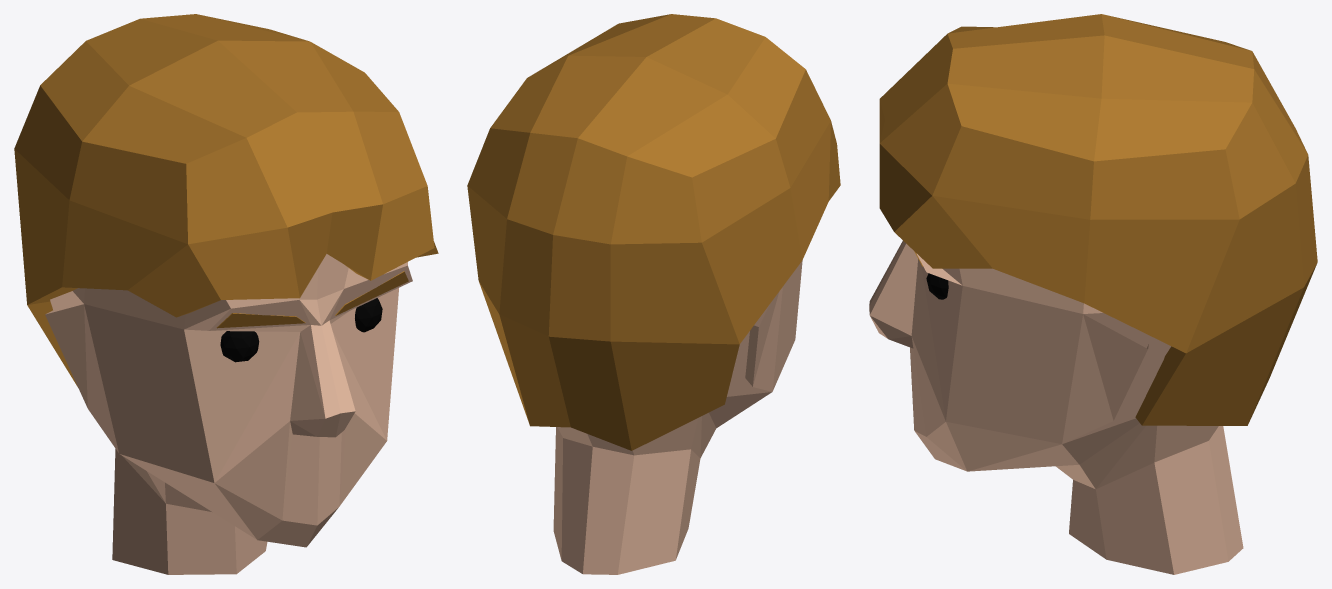
File: head_man.fbx
The picture shows the model from 3 angles, left to right: view 1: azimuth 30°, elevation 25°; view 2: azimuth 150°, elevation 25°; view 3: azimuth 270°, elevation 25°; orthographic projection. The views are drawn at different scales.
Visible parts, largest first — view 1: hair, head, eyes, eyebrows; view 2: hair, head; view 3: hair, head.
Part boxes in pixels (x1,y1,x2,y2): hair: (14,14,438,386); head: (45,254,412,574); eyes: (220,298,382,362); eyebrows: (216,271,408,328); hair: (467,14,840,450); head: (553,260,802,574); hair: (879,14,1317,425); head: (869,241,1243,574).
Size of the model in its own units: 0.2479 by 0.3803 by 0.3015.
